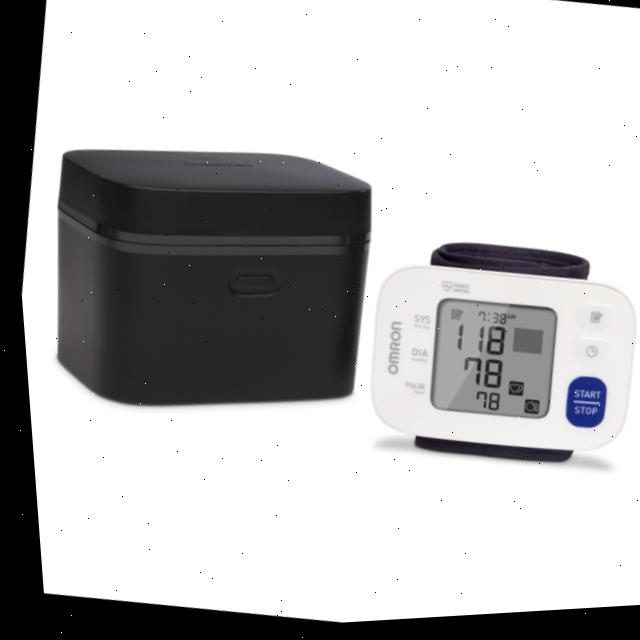dia: (450, 355, 511, 401)
pul: (457, 391, 502, 423)
ssd: (422, 301, 555, 427)
sys: (443, 320, 510, 365)
